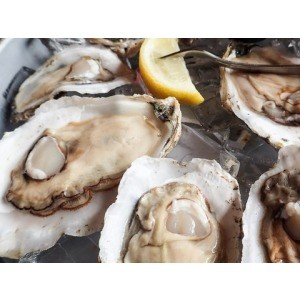oyster_brain food: (18, 69, 117, 219), (120, 179, 250, 260)
